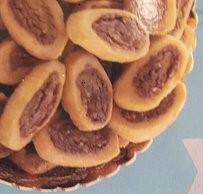bhakarwadi: (0, 0, 195, 154)
